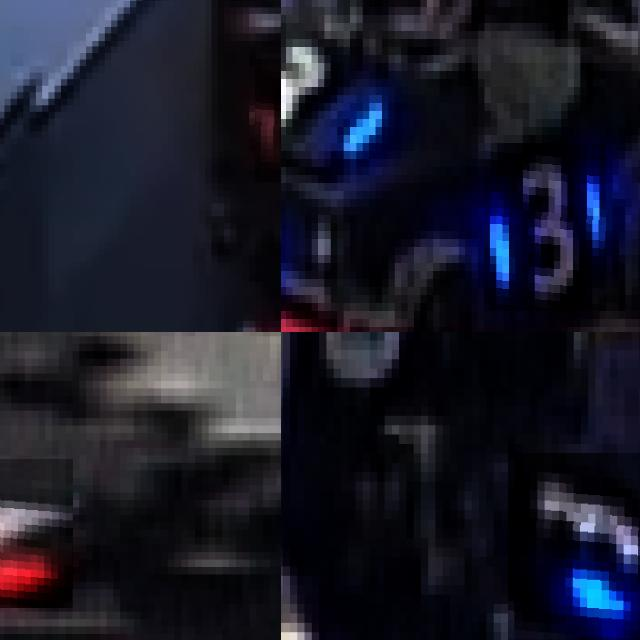B3: (508, 453, 640, 640), (484, 143, 606, 311)
R4: (0, 459, 72, 608)
